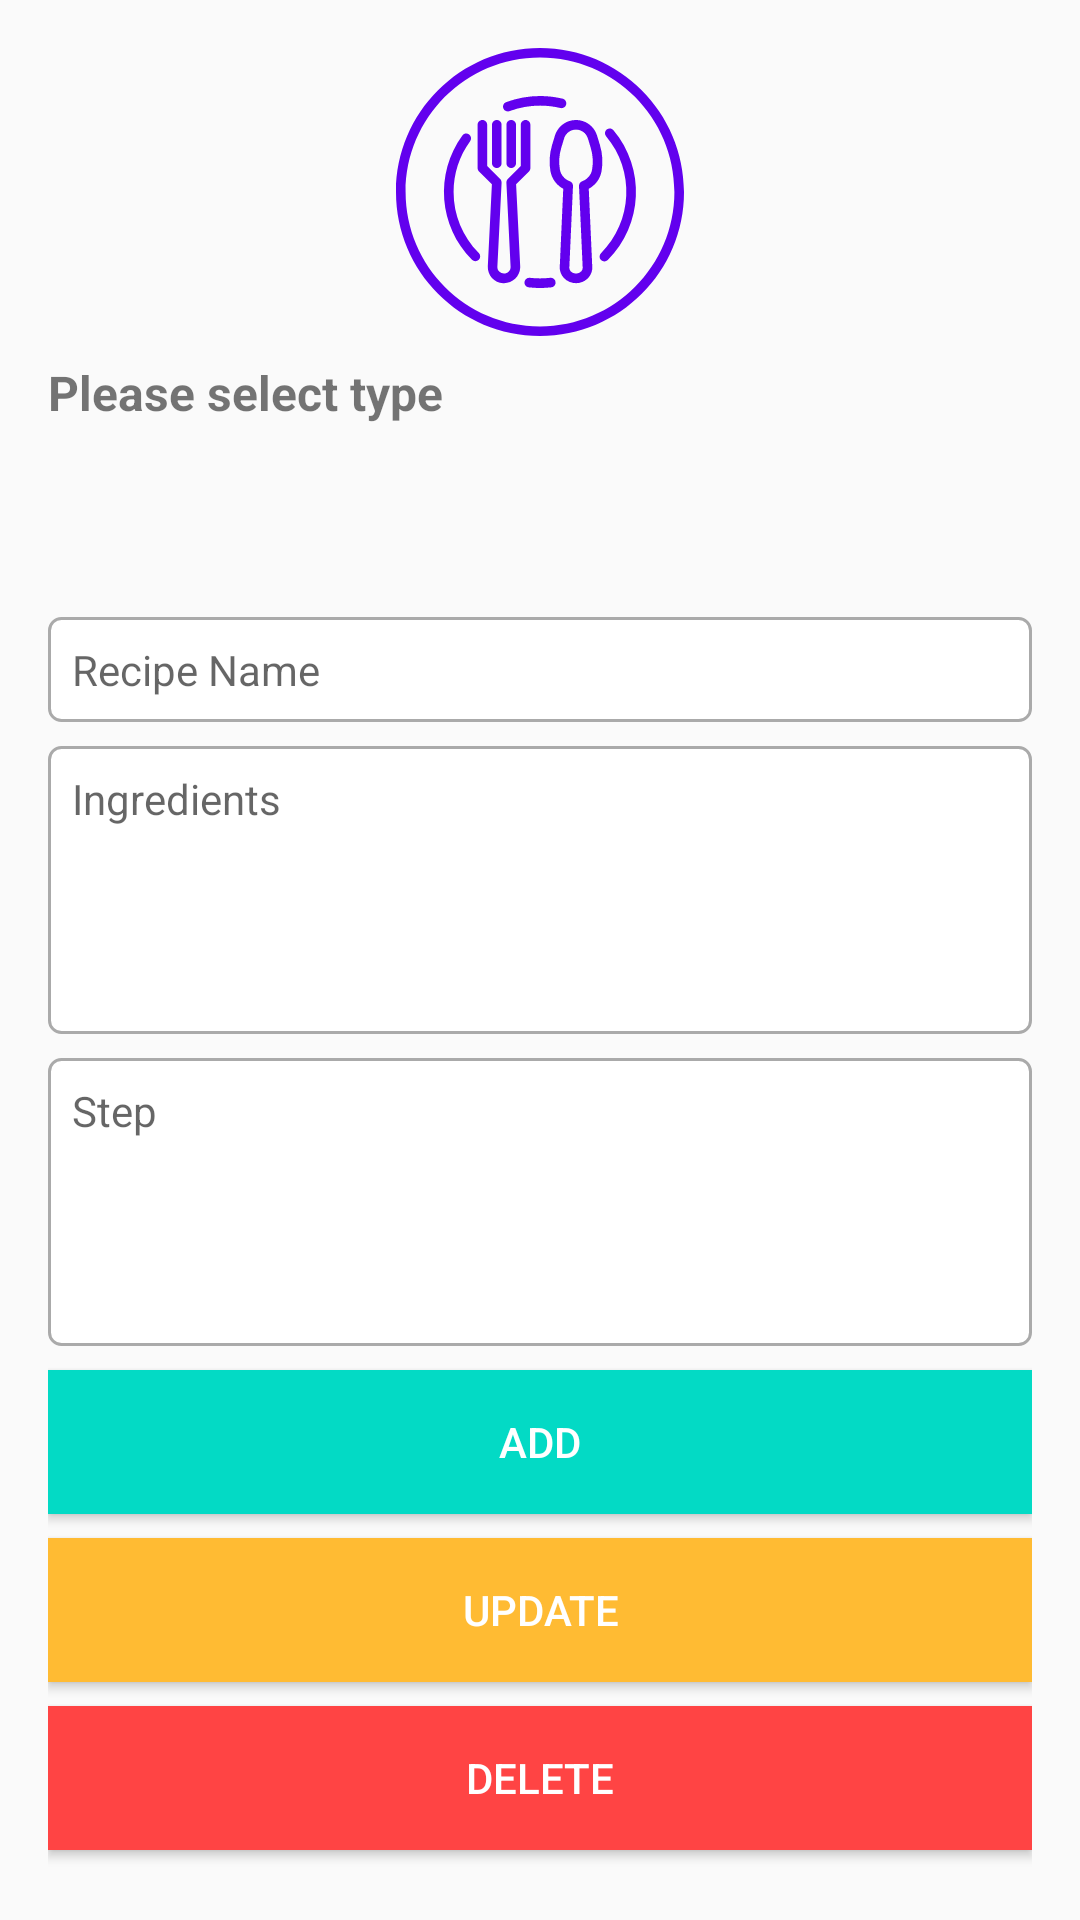

Locate icon controls on the screen. Image size 1080×1920, boxes as (left=x1, top=y1, right=x2, bottom=y2).
food: (left=396, top=48, right=684, bottom=336)
